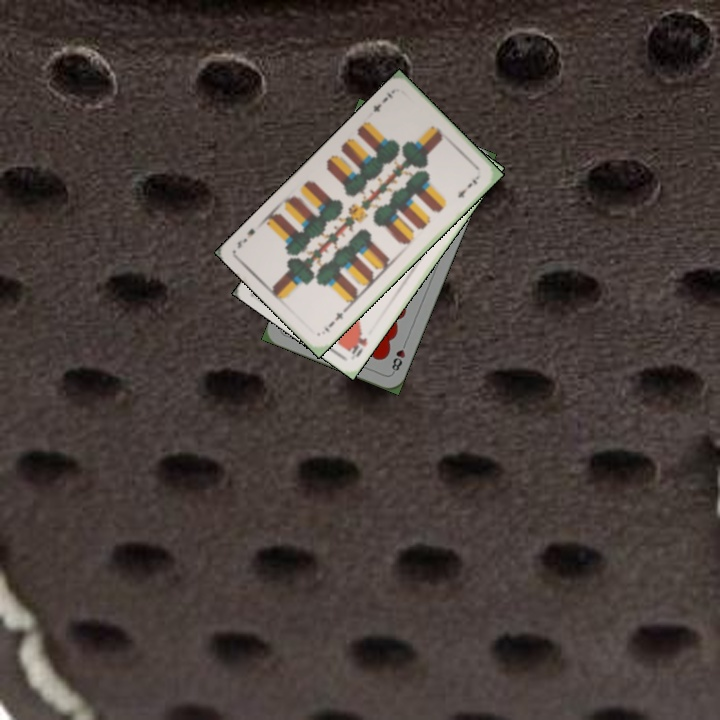E7: (320, 304, 349, 335), (369, 88, 396, 115)
H8: (388, 337, 409, 376)
HO: (344, 329, 370, 360)
